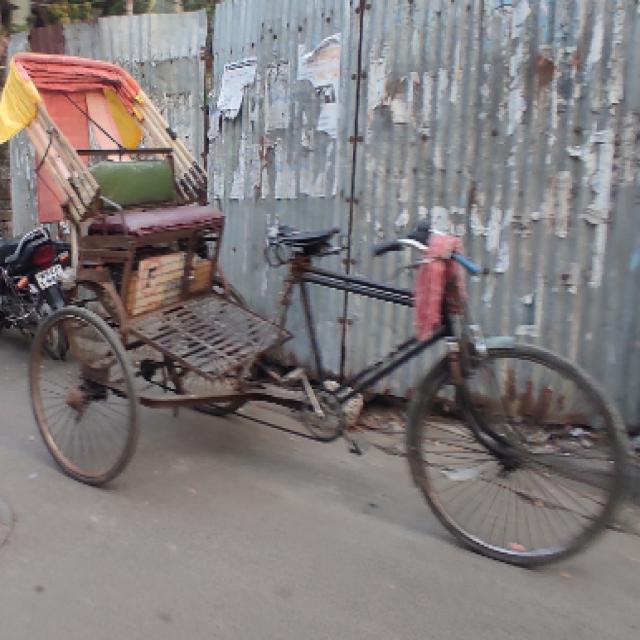rickshaw: (19, 42, 632, 576)
